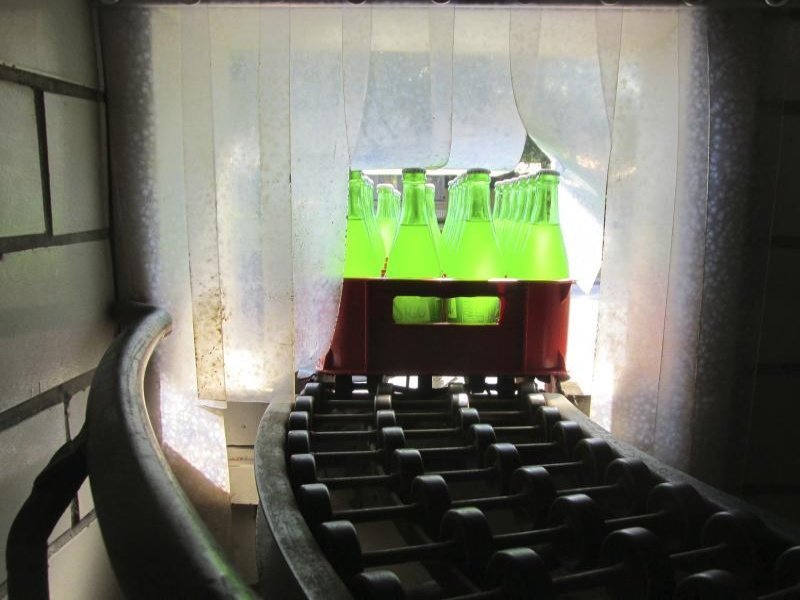Glass bottle: (429, 157, 510, 287), (506, 165, 582, 284), (380, 156, 445, 295), (314, 146, 387, 269)
